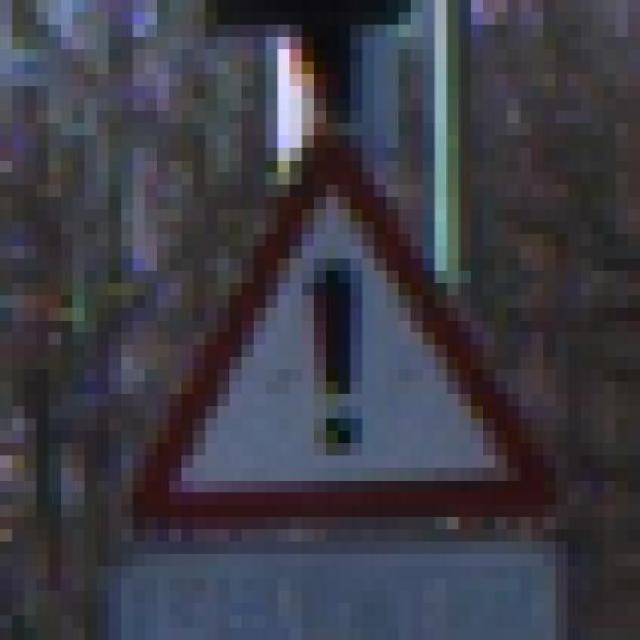Attention Please-: (108, 123, 580, 529)
